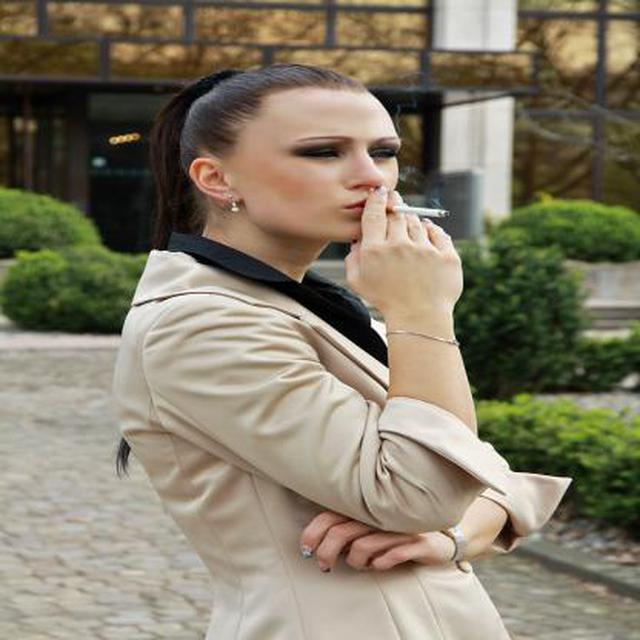smoking: (372, 204, 450, 218)
